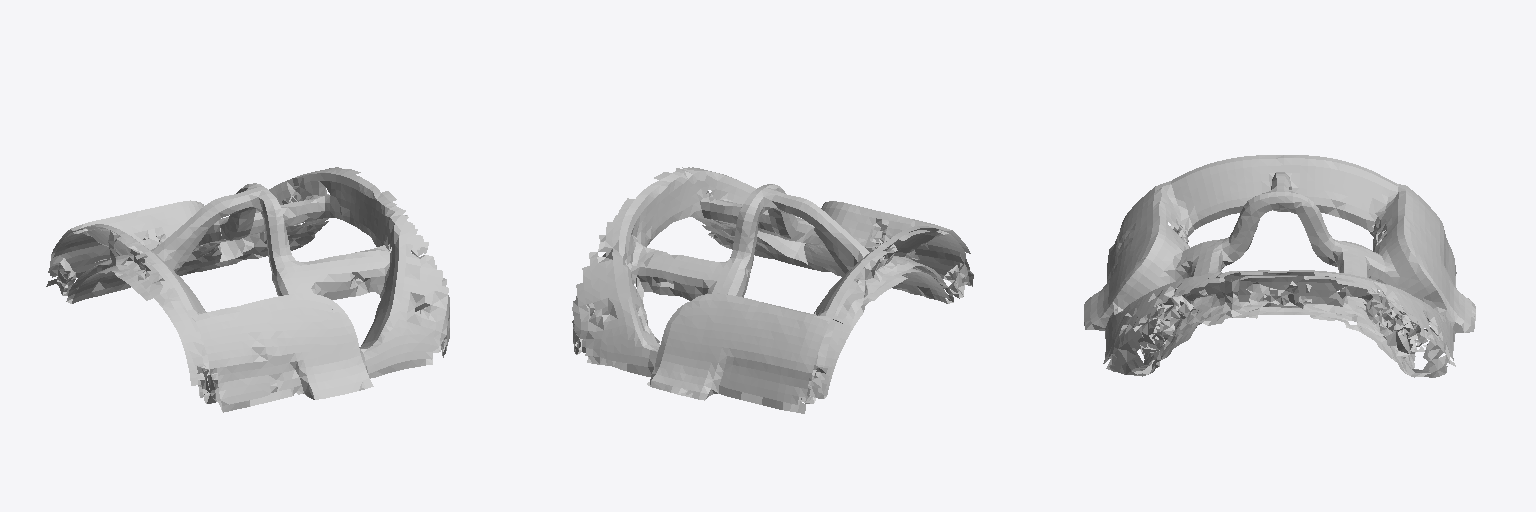
Rendered from coilimv1.obj.
3 renders of one model, left to right at view 1: azimuth 30°, elevation 25°; view 2: azimuth 150°, elevation 25°; view 3: azimuth 270°, elevation 25°, orthographic.
Bounding box in the file's own units: 205 × 104 × 279.